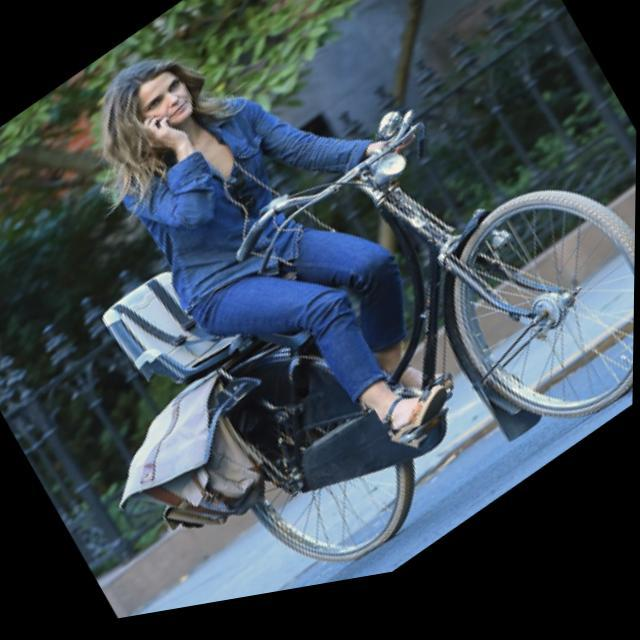Nonhelmet: (100, 46, 209, 152)
